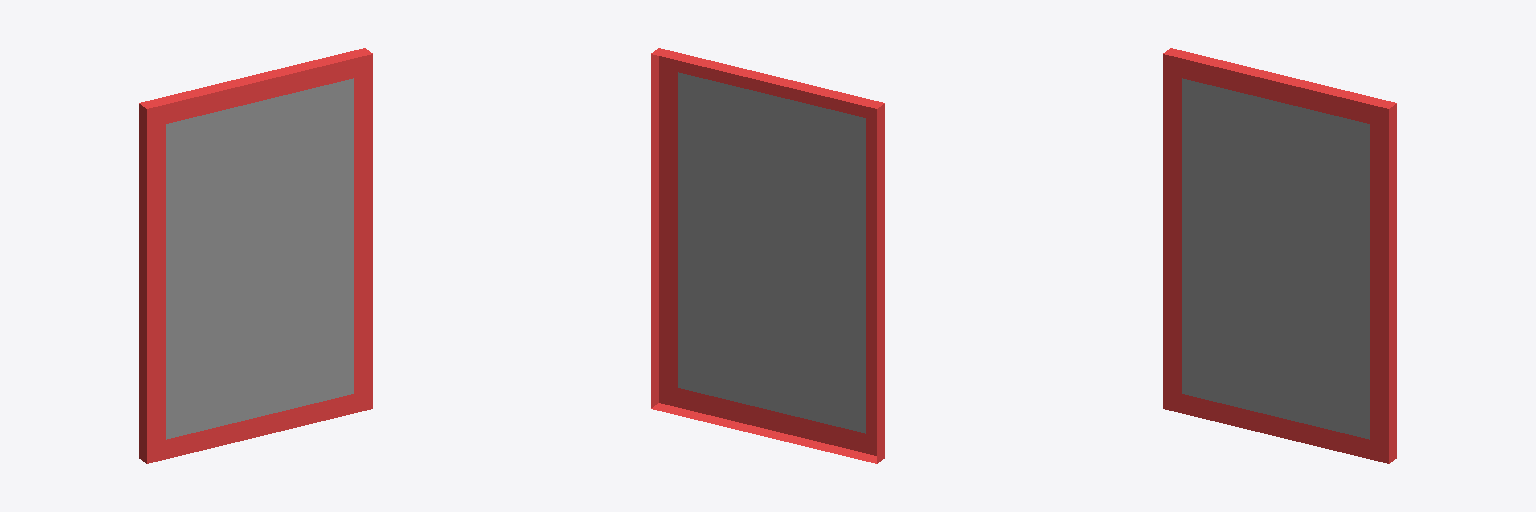
File: cat18_mirror.obj
3 views of the same model, side by side, from view 1: azimuth 30°, elevation 25°; view 2: azimuth 150°, elevation 25°; view 3: azimuth 330°, elevation 25° (orthographic).
Parts seen in each view (by area): view 1: <LightGray>, Layer_Layer0; view 2: <LightGray>, Layer_Layer0; view 3: <LightGray>, Layer_Layer0.
Part boxes in pixels (left/top/right/bottom): <LightGray>: left=166, top=78, right=353, bottom=439; Layer_Layer0: left=139, top=48, right=372, bottom=463; <LightGray>: left=678, top=72, right=865, bottom=433; Layer_Layer0: left=651, top=48, right=884, bottom=463; <LightGray>: left=1182, top=78, right=1369, bottom=439; Layer_Layer0: left=1163, top=48, right=1396, bottom=463.
Bounding box in the file's own units: 24 × 36 × 1.5.